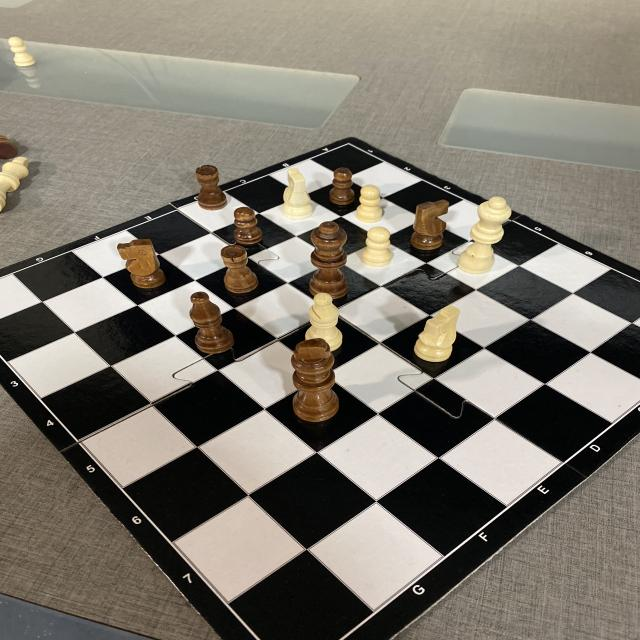Black-Bishop: (188, 290, 237, 354)
Black-King: (291, 338, 338, 426)
Black-Knight: (114, 236, 168, 288), (407, 197, 451, 253)
Black-Pawn: (232, 206, 265, 246), (327, 166, 359, 207)
Black-Queen: (307, 220, 350, 302)
Black-Rook: (222, 244, 260, 294), (196, 163, 229, 211)
White-Bishop: (304, 292, 344, 352)
White-Knight: (415, 304, 460, 363), (278, 168, 314, 220)
White-Pawn: (360, 226, 394, 267), (356, 184, 384, 223)
White-Queen: (457, 196, 512, 274)
